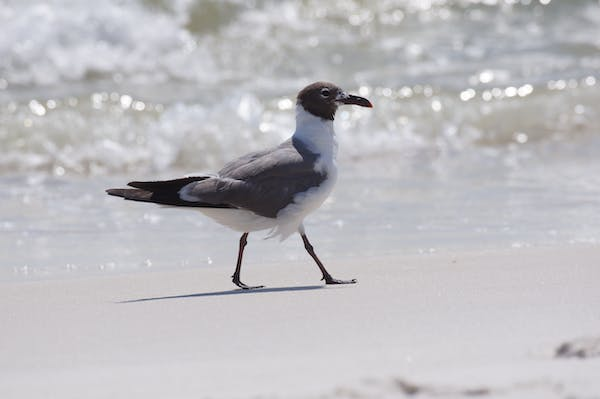Walking: (95, 71, 380, 313)
